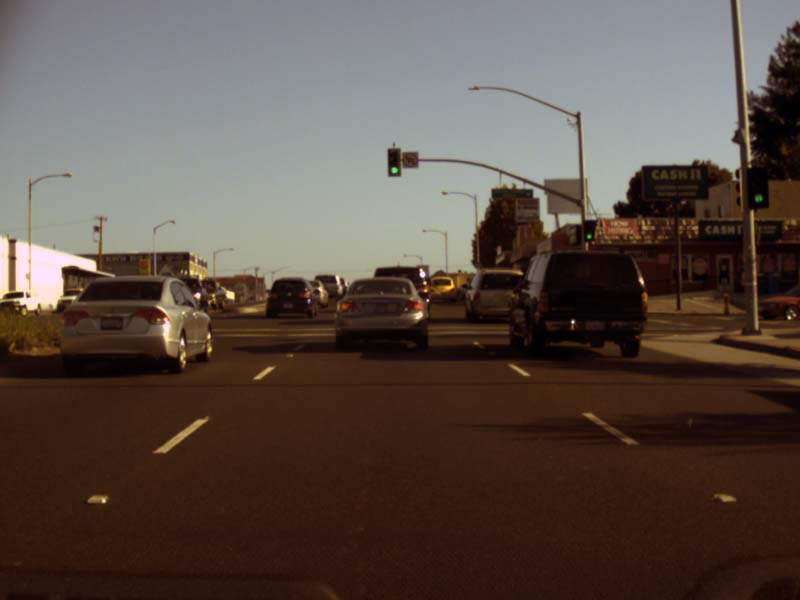Green: (747, 169, 767, 207), (387, 148, 400, 176), (583, 221, 594, 241)
